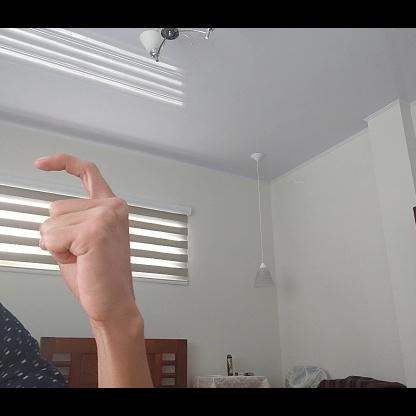X: (35, 151, 144, 339)
